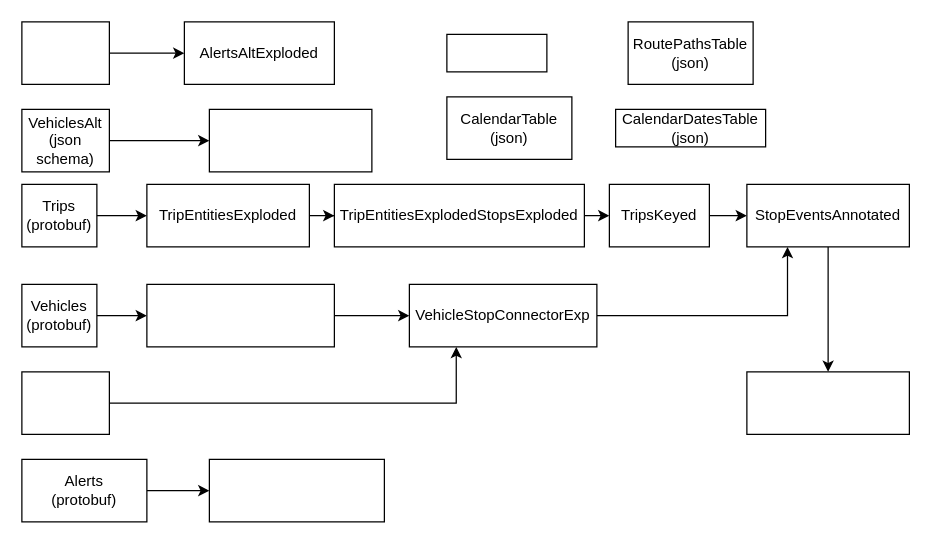
This 931x544 diagram has some shape labels left out. The centre of each missing label's shape, as x and y in pixels:
AlertEntitiesExploded: (x=296, y=490)
AlertsAlt (json schema): (x=65, y=52)
StopsLatest: (x=827, y=402)
StopsTable (json): (x=65, y=402)
TripsTable (json): (x=496, y=52)
VehicleEntitiesExploded: (x=240, y=315)
VehiclesAltExploded: (x=290, y=140)
